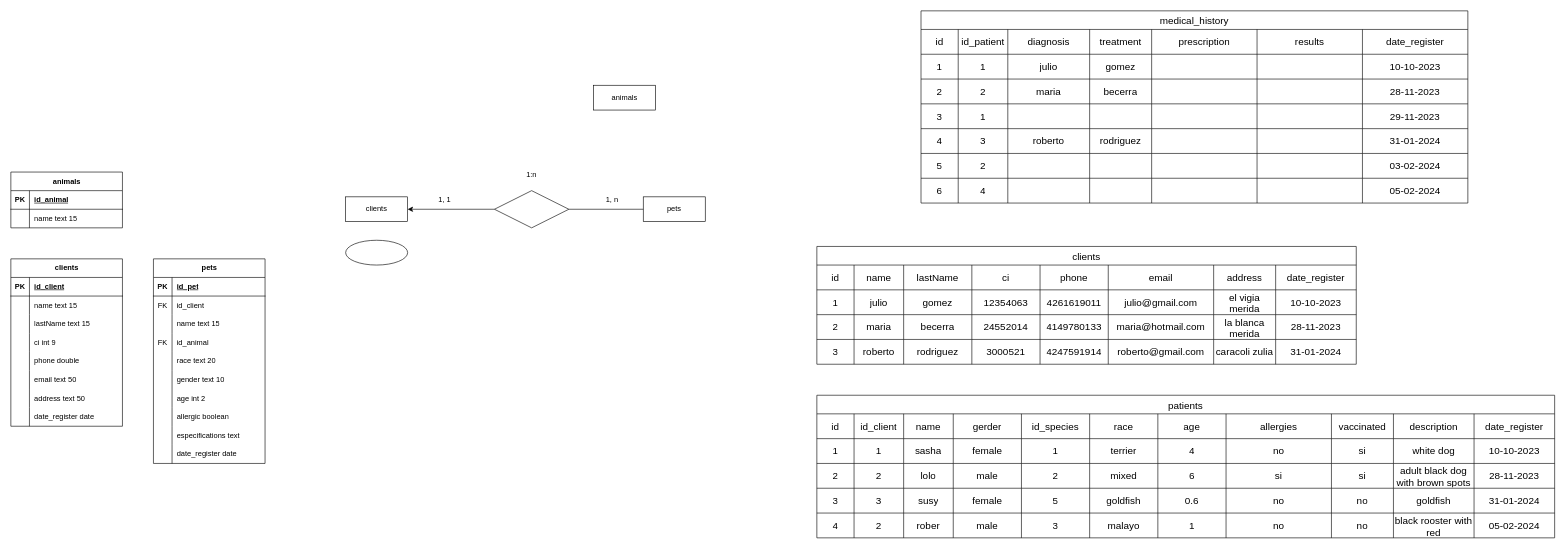
Image size: 1566x549. Some labels were removed from this diagram. Each missing label, with the centre of its shape:
"Attribute" belongs at point 376,252.
"tienen" belongs at point 531,209.
